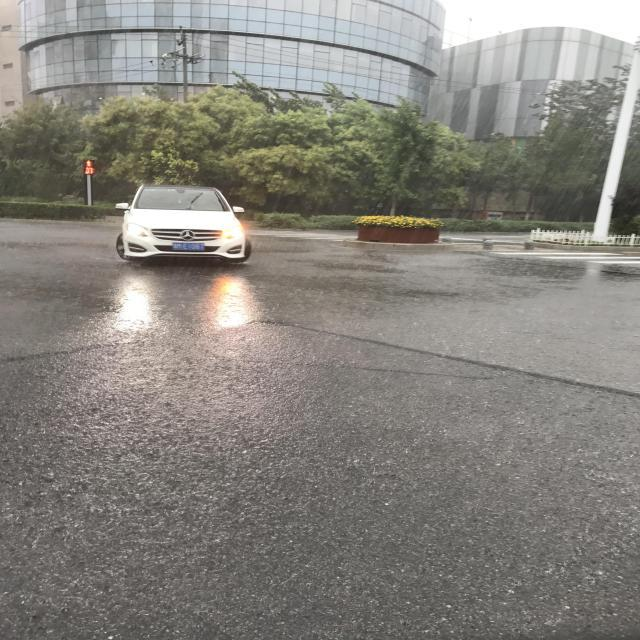car: (181, 388, 265, 526)
